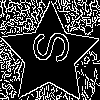S: (25, 30, 69, 64)
